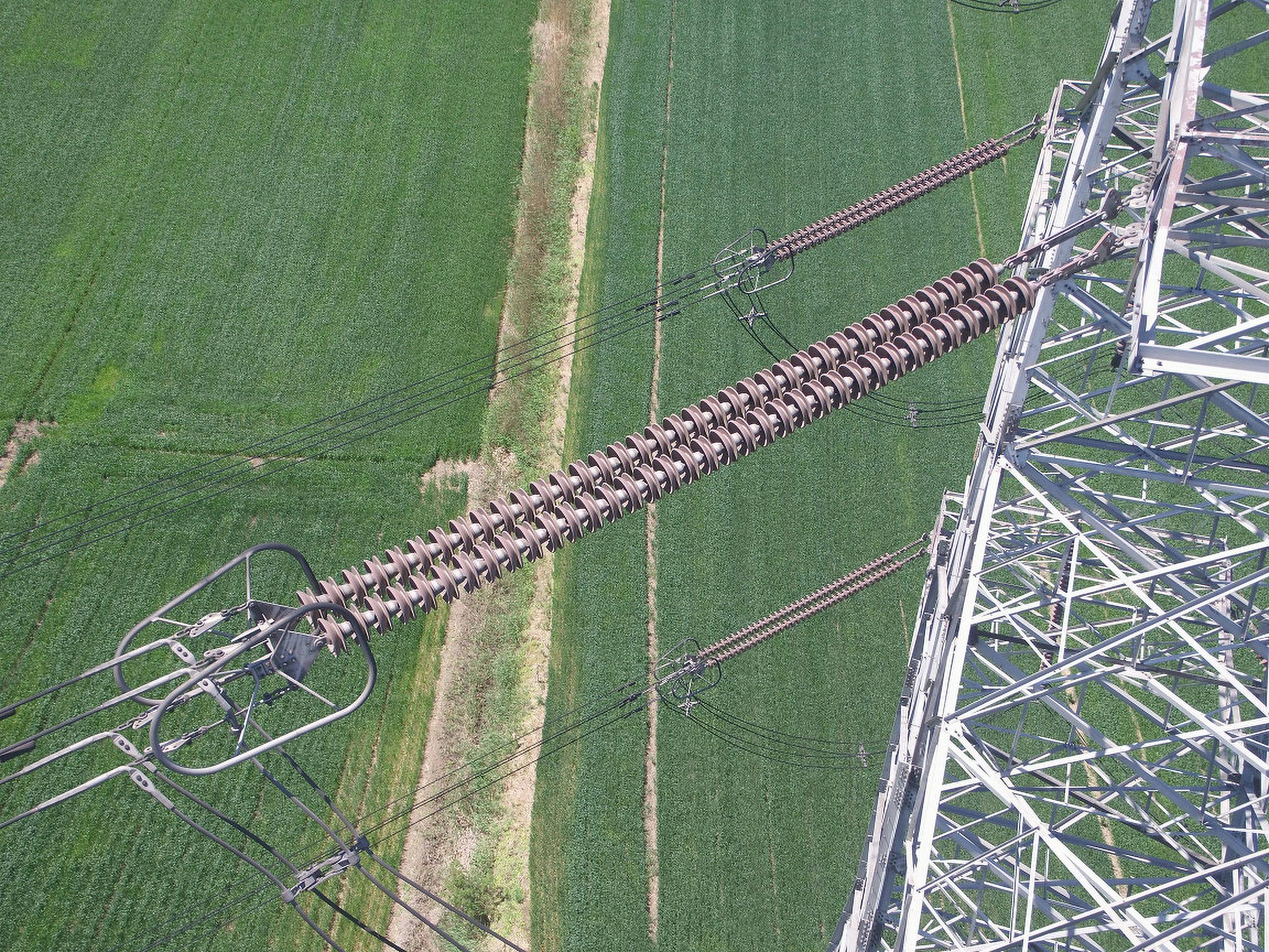insulator: (291, 254, 1038, 664), (761, 134, 1013, 266), (696, 550, 905, 673), (1037, 540, 1076, 674)
